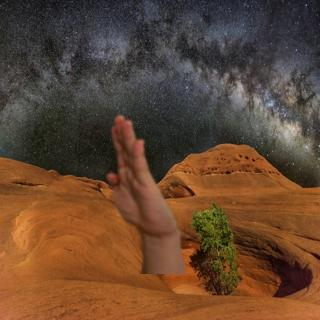RIGHT: (99, 112, 178, 242)
